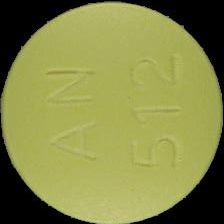68151-1923: (0, 0, 224, 224)
